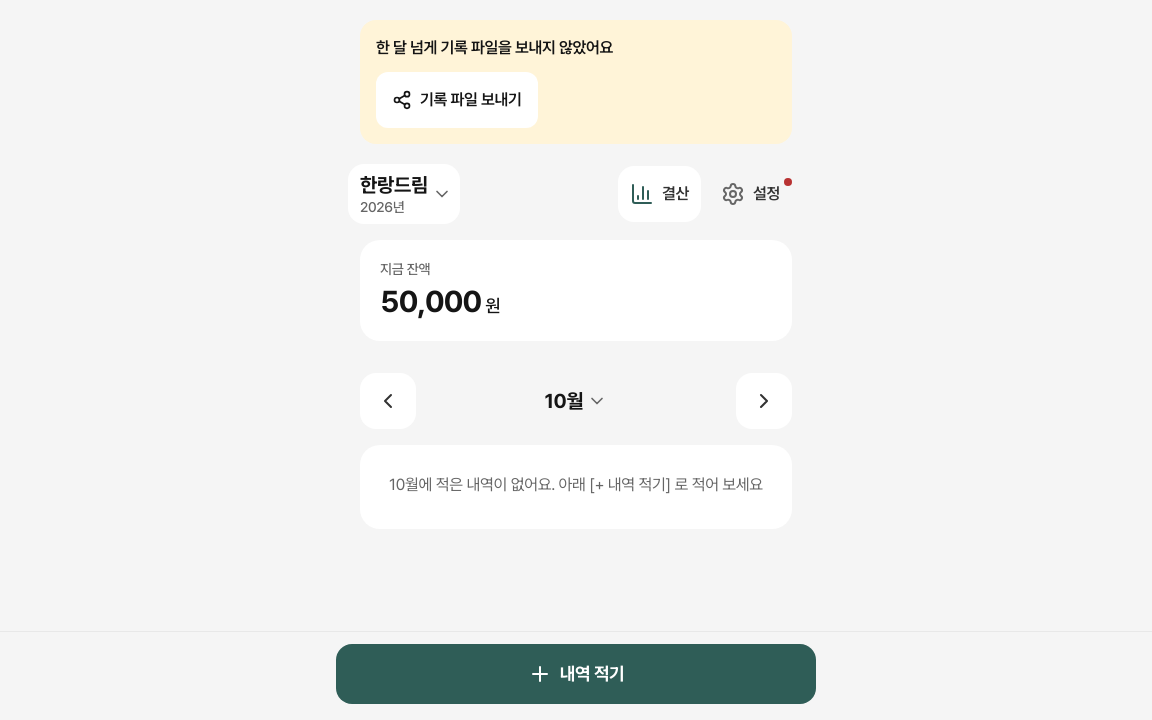
Test case: SPEC-002 30일 백업 안내 › 띠의 [기록 파일 보내기] 는 설정의 보내기와 같이 공유 화면을 열고, 보내면 안내 띠와 점이 사라진다
What coordinates should you click on to do the following:
click the button "기록 파일 보내기"
I would click on:
 (457, 100)
Its box is [376,72,538,128].
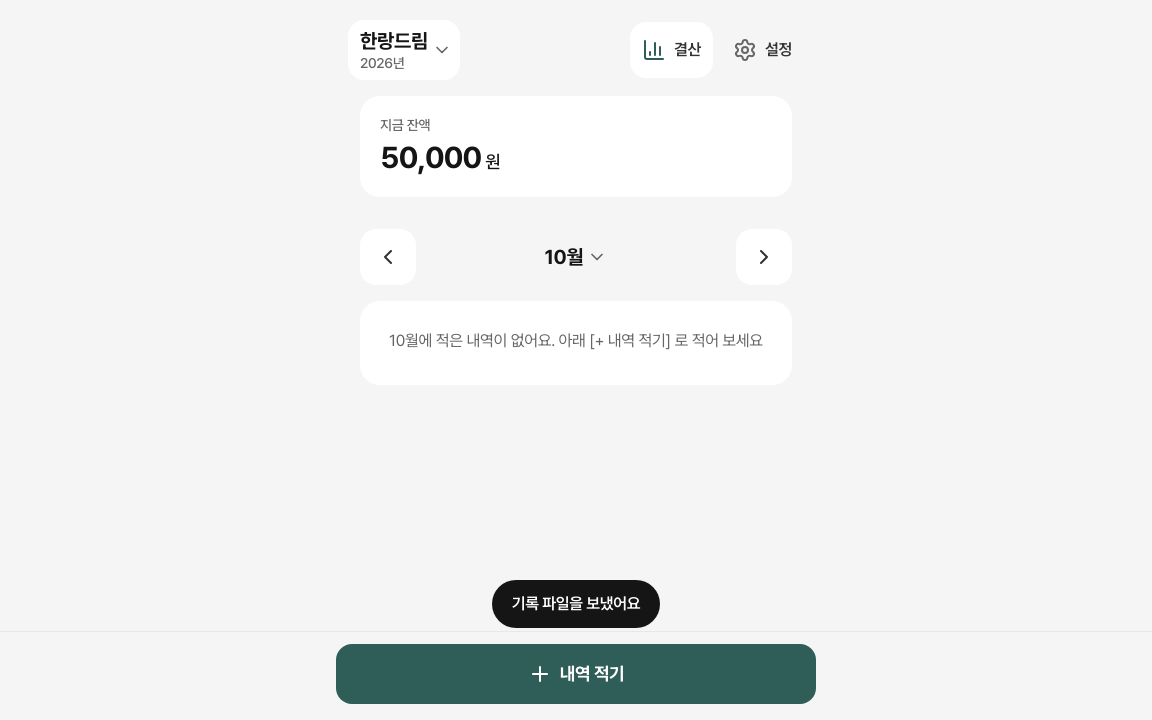
Now the text "기록 파일을 보냈어요" is shown, box [492,580,660,628]
Now the text "한 달 넘게 기록 파일을 보내지 않았어요" is gone
